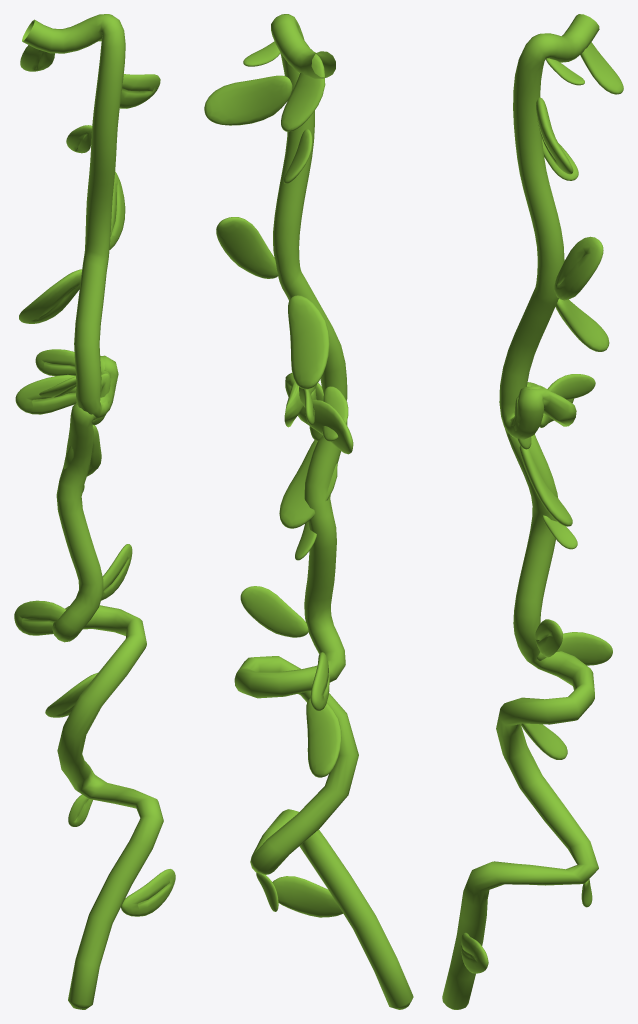
Rendered from Farmhouse_ROOM_flowerivy2_v01.glb.
3 views of the same model, side by side, from view 1: azimuth 30°, elevation 25°; view 2: azimuth 150°, elevation 25°; view 3: azimuth 270°, elevation 25° (orthographic). The views are drawn at different scales.
Parts seen in each view (by area): view 1: Farmhouse_ROOM_flowerivy2_v01; view 2: Farmhouse_ROOM_flowerivy2_v01; view 3: Farmhouse_ROOM_flowerivy2_v01.
Part boxes in pixels (bbox=[...]): Farmhouse_ROOM_flowerivy2_v01: bbox=[14, 14, 175, 1009]; Farmhouse_ROOM_flowerivy2_v01: bbox=[204, 14, 413, 1009]; Farmhouse_ROOM_flowerivy2_v01: bbox=[442, 14, 623, 1009].
Size of the model in its own units: 0.3066 by 1.96 by 0.3191.
